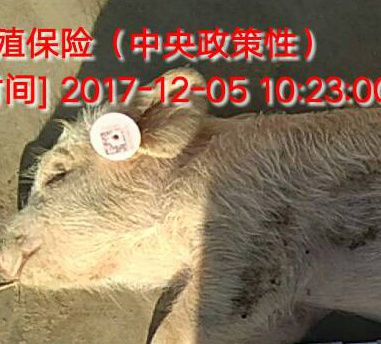text: (76, 99, 159, 174)
